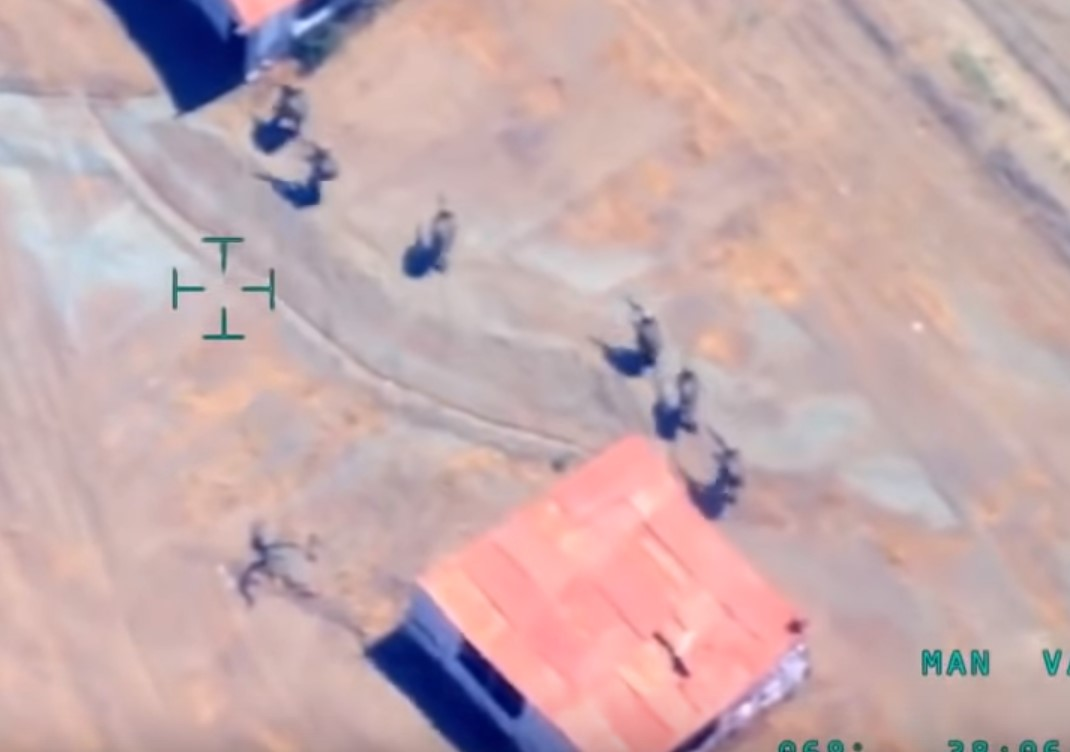insan: (408, 182, 464, 271), (295, 130, 345, 212), (706, 431, 745, 524), (264, 82, 309, 161), (669, 367, 709, 442), (634, 297, 662, 378)
